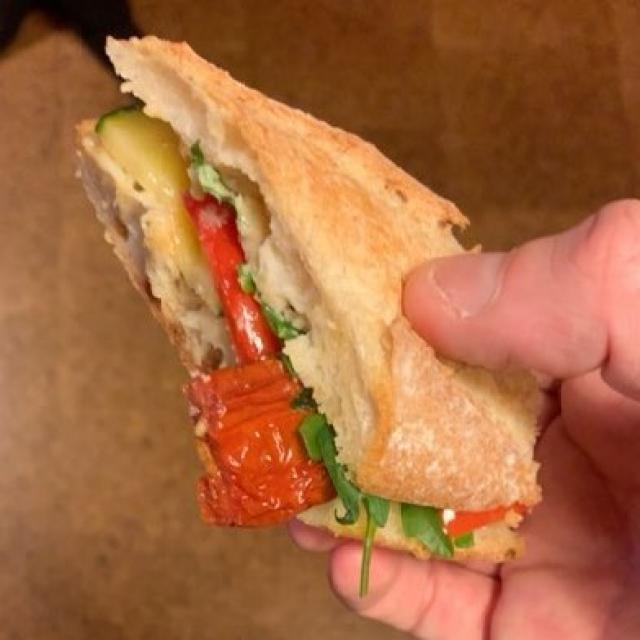bread: (70, 38, 550, 585)
mixed-vegetables: (102, 113, 517, 561)
